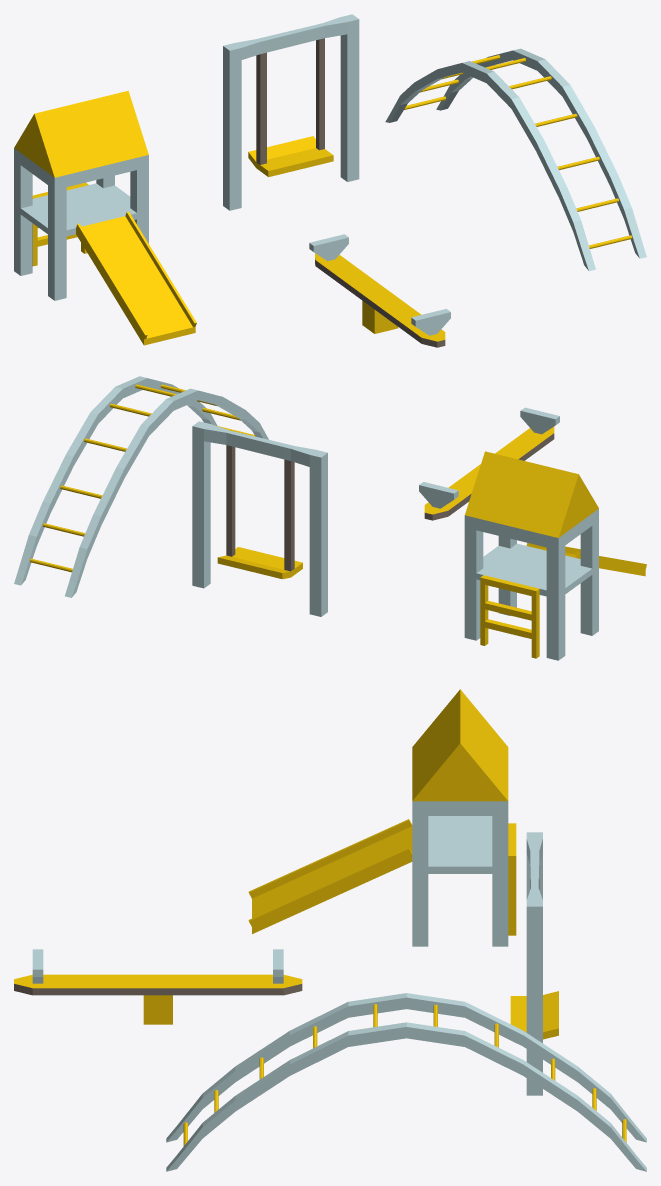
The model's file is Cenarios.fbx_Parque.fbx.
3 renders of one model, top to bottom at view 1: azimuth 30°, elevation 25°; view 2: azimuth 150°, elevation 25°; view 3: azimuth 270°, elevation 25°, orthographic. The views are drawn at different scales.
Parts seen in each view (by area): view 1: Beinquedo 1, Brinquedo 3, Brinquedo 2, Brinquedo 4; view 2: Beinquedo 1, Brinquedo 3, Brinquedo 2, Brinquedo 4; view 3: Beinquedo 1, Brinquedo 2, Brinquedo 4, Brinquedo 3.
Boxes of the visible parts, bbox=[...] form: Beinquedo 1: bbox=[14, 90, 196, 345]; Brinquedo 3: bbox=[223, 14, 359, 210]; Brinquedo 2: bbox=[385, 48, 646, 271]; Brinquedo 4: bbox=[309, 234, 450, 347]; Beinquedo 1: bbox=[464, 451, 646, 660]; Brinquedo 3: bbox=[192, 421, 327, 616]; Brinquedo 2: bbox=[14, 376, 268, 597]; Brinquedo 4: bbox=[419, 407, 559, 520]; Beinquedo 1: bbox=[248, 689, 516, 946]; Brinquedo 2: bbox=[166, 993, 646, 1171]; Brinquedo 4: bbox=[14, 949, 302, 1024]; Brinquedo 3: bbox=[510, 832, 558, 1095].
Size of the model in its own units: 830 by 280 by 790.
